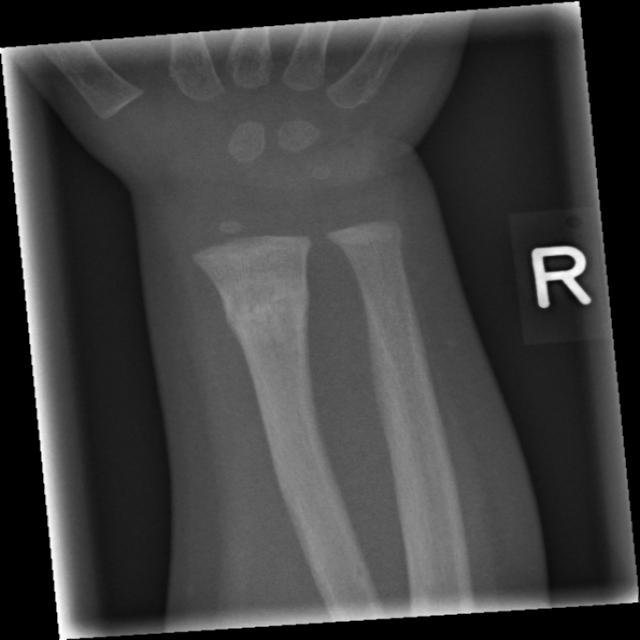radius fracture: (187, 275, 346, 371)
